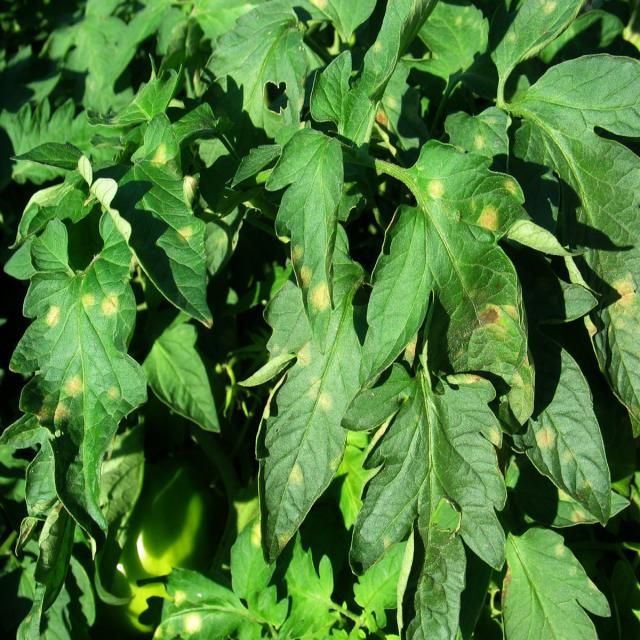Tomato healthy leaf: (144, 322, 220, 434)
Tomato mold leaf: (360, 136, 554, 432), (8, 205, 136, 539), (348, 371, 506, 640), (238, 255, 364, 562), (84, 120, 216, 318), (520, 347, 612, 532), (275, 126, 345, 351), (500, 525, 611, 640), (487, 0, 587, 80), (148, 566, 248, 640)
